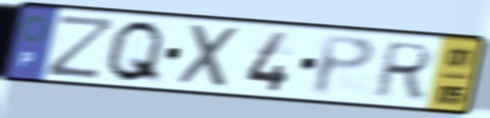4: (243, 29, 292, 93)
P: (310, 33, 380, 99)
Q: (101, 18, 169, 87)
R: (368, 40, 437, 101)
X: (175, 21, 245, 92)
Z: (45, 12, 121, 81)
